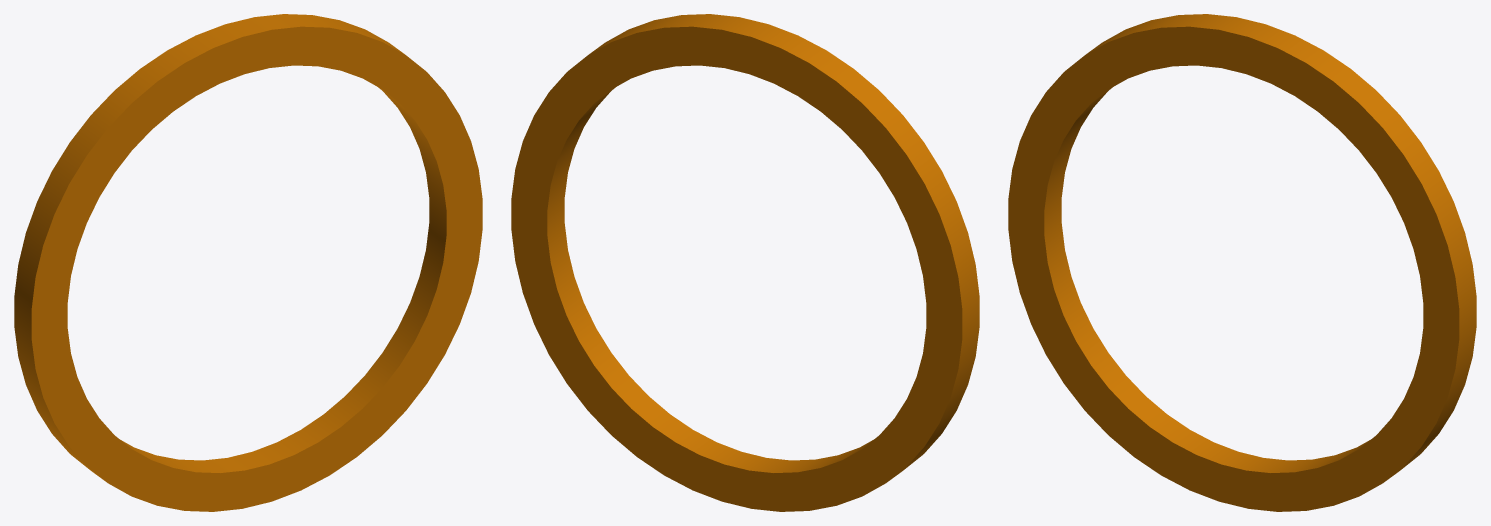
File: Ring_Five.fbx
3 renders of one model, left to right at view 1: azimuth 30°, elevation 25°; view 2: azimuth 150°, elevation 25°; view 3: azimuth 330°, elevation 25°, orthographic.
Visible parts, largest first — view 1: Ring_Five; view 2: Ring_Five; view 3: Ring_Five.
Boxes of the visible parts, x1,y1,x2,y2 form: Ring_Five: (14,14,482,511); Ring_Five: (511,14,979,511); Ring_Five: (1008,14,1476,511).
Bounding box in the file's own units: 45.06 × 3 × 45.06.
